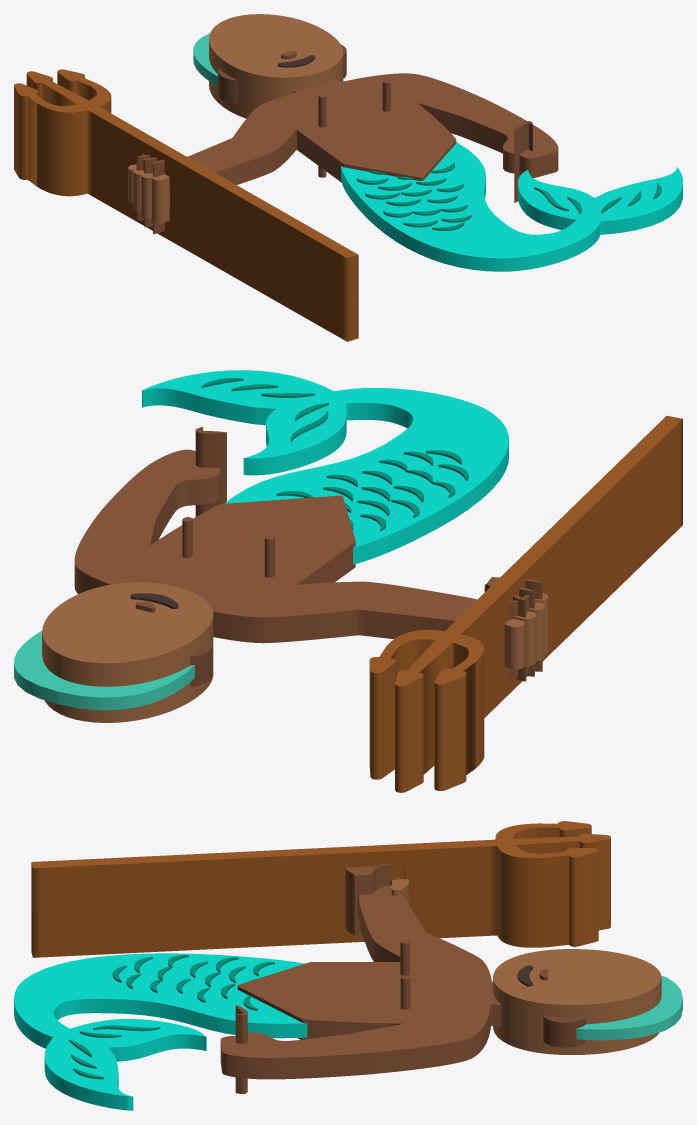
File: emoji_u1f9dc_1f3fe_200d_2642.glb
The picture shows the model from 3 angles, top to bottom: view 1: azimuth 30°, elevation 25°; view 2: azimuth 150°, elevation 25°; view 3: azimuth 270°, elevation 25°; orthographic projection. The views are drawn at different scales.
Visible parts, largest first — view 1: emoji_u1f9dc_1f3fe_200d_2642; view 2: emoji_u1f9dc_1f3fe_200d_2642; view 3: emoji_u1f9dc_1f3fe_200d_2642.
Part boxes in pixels (left/top/right/bottom): emoji_u1f9dc_1f3fe_200d_2642: left=14, top=14, right=682, bottom=341; emoji_u1f9dc_1f3fe_200d_2642: left=14, top=370, right=682, bottom=792; emoji_u1f9dc_1f3fe_200d_2642: left=14, top=821, right=682, bottom=1110.
Size of the model in its own units: 0.0285 by 0.005 by 0.0339.
